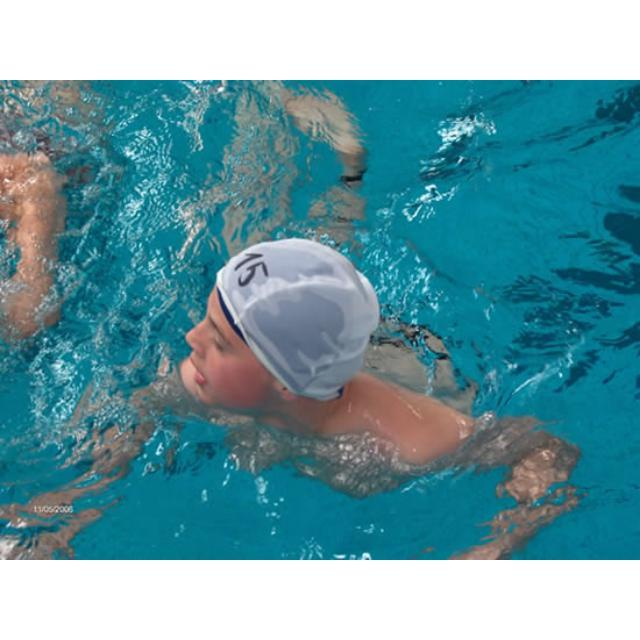human: (137, 224, 578, 559)
